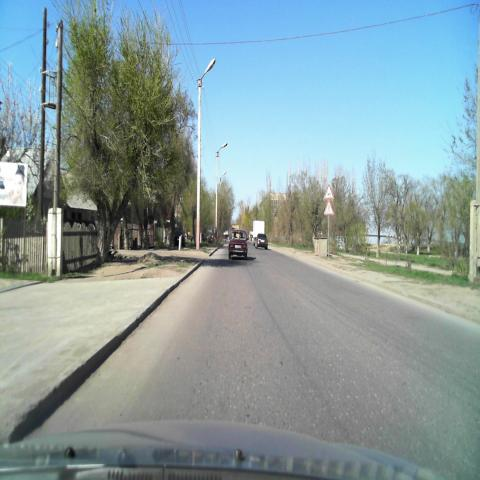1_12_2: (323, 183, 334, 200)
1_22: (324, 200, 334, 214)
